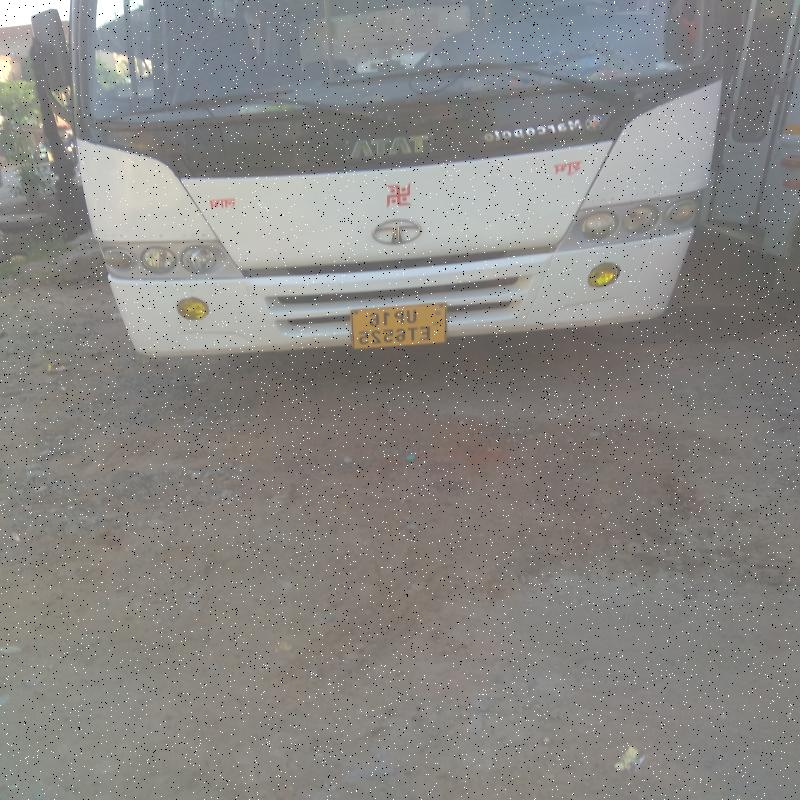bus: (71, 0, 728, 372)
